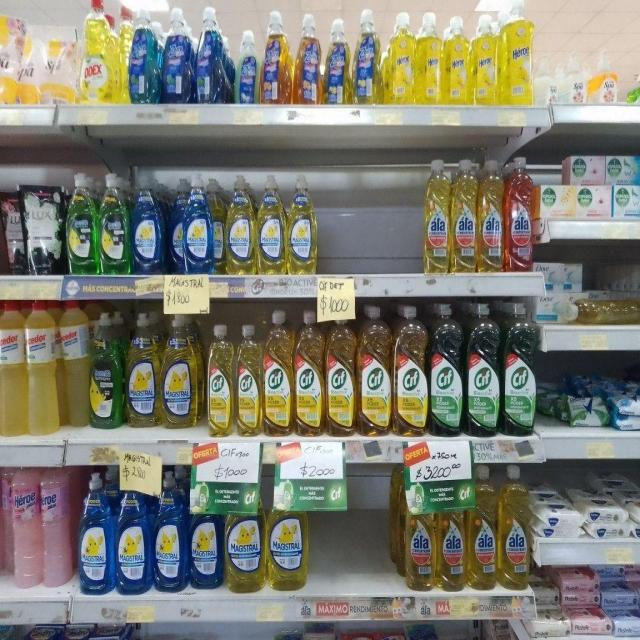ala_conc_amarillo: (498, 464, 530, 592), (403, 469, 435, 592), (467, 465, 497, 591), (422, 158, 450, 274), (451, 156, 477, 274), (478, 158, 504, 272), (437, 497, 466, 592)
ala_conc_rojo: (505, 154, 534, 272)
cif_conc_bot_amarilla: (393, 304, 428, 436), (357, 304, 391, 436), (326, 308, 356, 437), (294, 308, 324, 436), (263, 309, 293, 436), (206, 322, 234, 437), (236, 322, 262, 437)
cif_conc_botella_verde: (429, 303, 464, 437), (466, 302, 500, 437), (502, 302, 536, 436)
heroe: (11, 466, 41, 589)
magistral_con_amarillo: (266, 478, 308, 591), (160, 312, 200, 429), (225, 482, 264, 594), (125, 311, 159, 428), (287, 173, 318, 275), (256, 172, 286, 274), (226, 173, 255, 275), (212, 174, 226, 274)
magistral_con_azul: (78, 470, 114, 594), (115, 472, 151, 595), (153, 467, 187, 592), (189, 478, 223, 590), (132, 170, 164, 274), (184, 173, 212, 274), (168, 175, 185, 275)
magistral_con_verde: (66, 172, 97, 275), (99, 172, 130, 275)
zorro: (352, 8, 382, 106), (294, 11, 323, 106)
